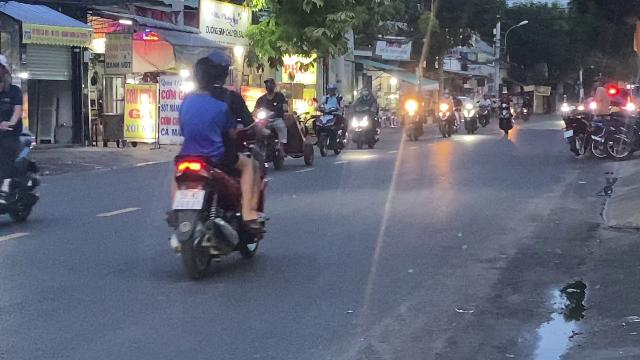helmet: (204, 50, 232, 88)
licenseplate: (172, 190, 205, 210)
motorcyclist: (162, 47, 272, 281)
nohelmet: (190, 55, 218, 95), (263, 78, 277, 92)
